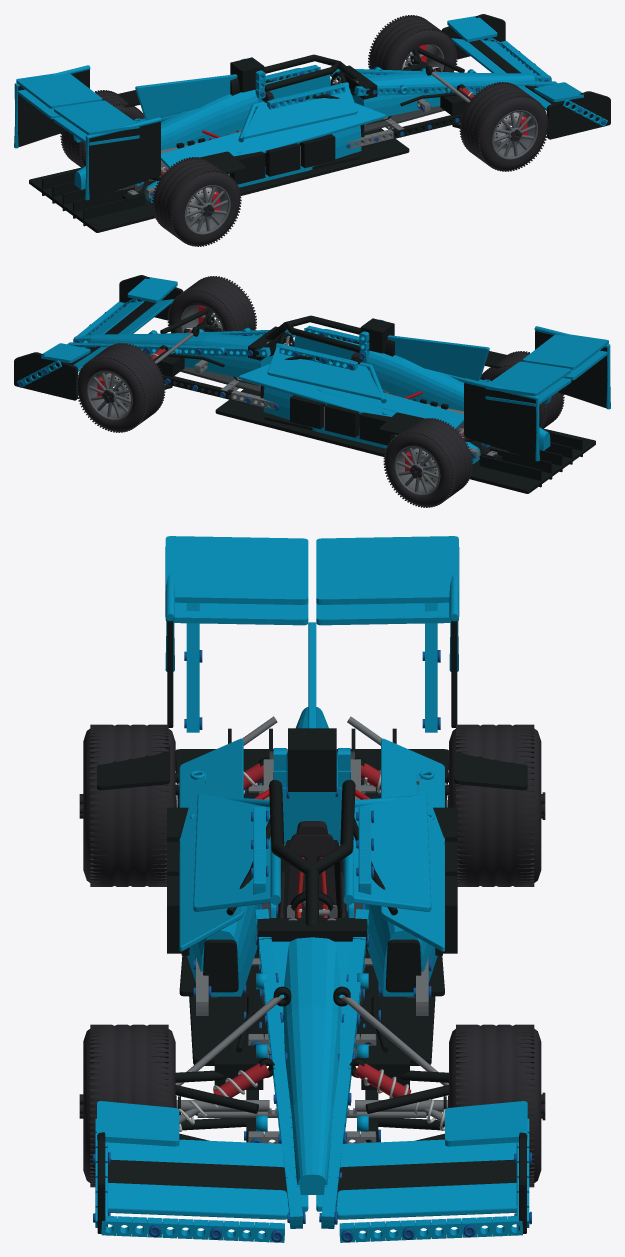
3 renders of one model, top to bottom at view 1: azimuth 30°, elevation 25°; view 2: azimuth 150°, elevation 25°; view 3: azimuth 270°, elevation 25°, orthographic. The views are drawn at different scales.
Parts seen in each view (by area): view 1: endplate_tras_izq, rueda_del_izq, rueda_tras_izq, fondo_plano, pontoon_izq, panel_cubierta_motor_v4, hombro_cabina_izq, rueda_del_der, panel_morro_v4, aleta_central, radiador_izq, endplate_del_izq (+34 smaller); view 2: endplate_tras_der, rueda_del_der, rueda_tras_der, fondo_plano, pontoon_der, panel_cubierta_motor_v4, hombro_cabina_der, rueda_del_izq, panel_morro_v4, aleta_central, radiador_der, endplate_del_der (+34 smaller); view 3: rueda_tras_der, rueda_tras_izq, panel_morro_v4, flap_tras_izq_1, flap_tras_der_1, rueda_del_der, rueda_del_izq, hombro_cabina_izq, hombro_cabina_der, fondo_plano, pontoon_izq, pontoon_der (+46 smaller).
Part boxes in pixels (x1,y1,x2,y2): endplate_tras_izq: (85, 117, 161, 200); rueda_del_izq: (459, 82, 548, 171); rueda_tras_izq: (152, 157, 241, 246); fondo_plano: (29, 128, 409, 232); pontoon_izq: (161, 103, 385, 167); panel_cubierta_motor_v4: (74, 89, 258, 189); hombro_cabina_izq: (242, 84, 357, 139); rueda_del_der: (368, 15, 457, 72); panel_morro_v4: (351, 72, 535, 116); aleta_central: (135, 74, 237, 119); radiador_izq: (229, 134, 335, 184); endplate_del_izq: (547, 91, 610, 139); endplate_tras_der: (463, 378, 539, 461); rueda_del_der: (76, 343, 165, 432); rueda_tras_der: (383, 418, 472, 507); fondo_plano: (215, 389, 595, 493); pontoon_der: (239, 364, 463, 428); panel_cubierta_motor_v4: (366, 350, 550, 450); hombro_cabina_der: (267, 345, 382, 400); rueda_del_izq: (167, 276, 256, 333); panel_morro_v4: (89, 333, 273, 377); aleta_central: (387, 335, 489, 380); radiador_der: (290, 395, 395, 445); endplate_del_der: (14, 352, 77, 400); rueda_tras_der: (449, 724, 541, 886); rueda_tras_izq: (83, 724, 175, 886); panel_morro_v4: (283, 937, 341, 1194); flap_tras_izq_1: (165, 536, 308, 604); flap_tras_der_1: (316, 536, 458, 604); rueda_del_der: (449, 1024, 541, 1187); rueda_del_izq: (83, 1024, 175, 1187); hombro_cabina_izq: (193, 794, 270, 911); hombro_cabina_der: (353, 794, 431, 911); fondo_plano: (175, 749, 448, 1065); pontoon_izq: (179, 738, 243, 951); pontoon_der: (381, 738, 444, 951).
Bounding box in the file's own units: 0.596 × 0.138 × 0.236.
